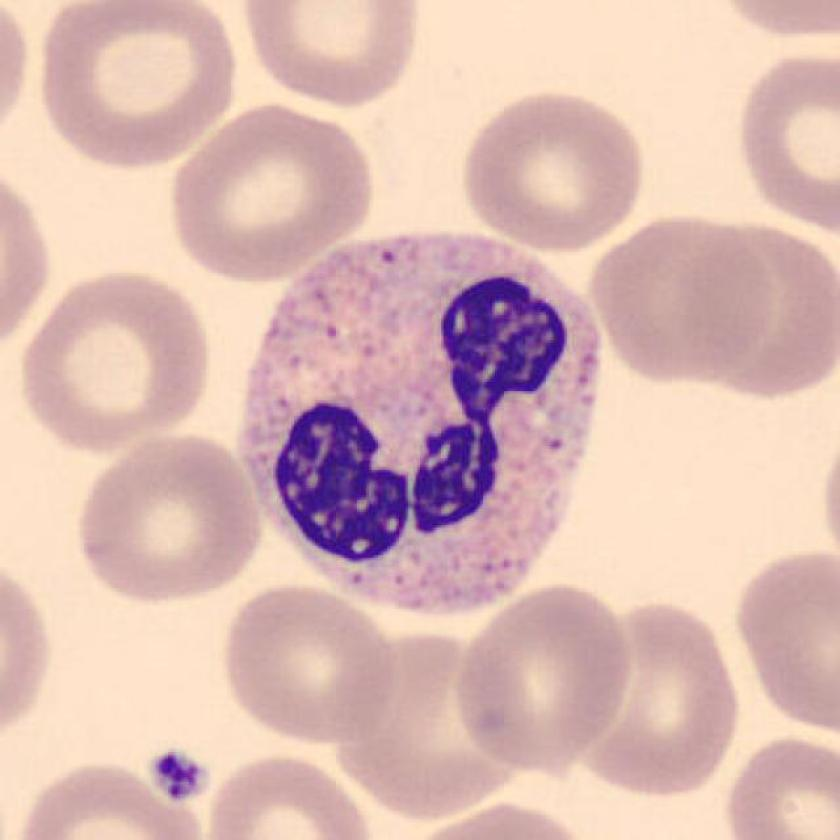neutrophil: (240, 234, 603, 617)
